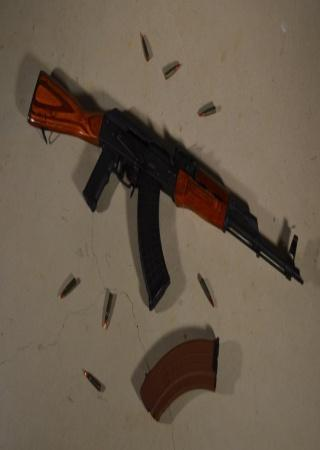weapon: (28, 69, 304, 311)
